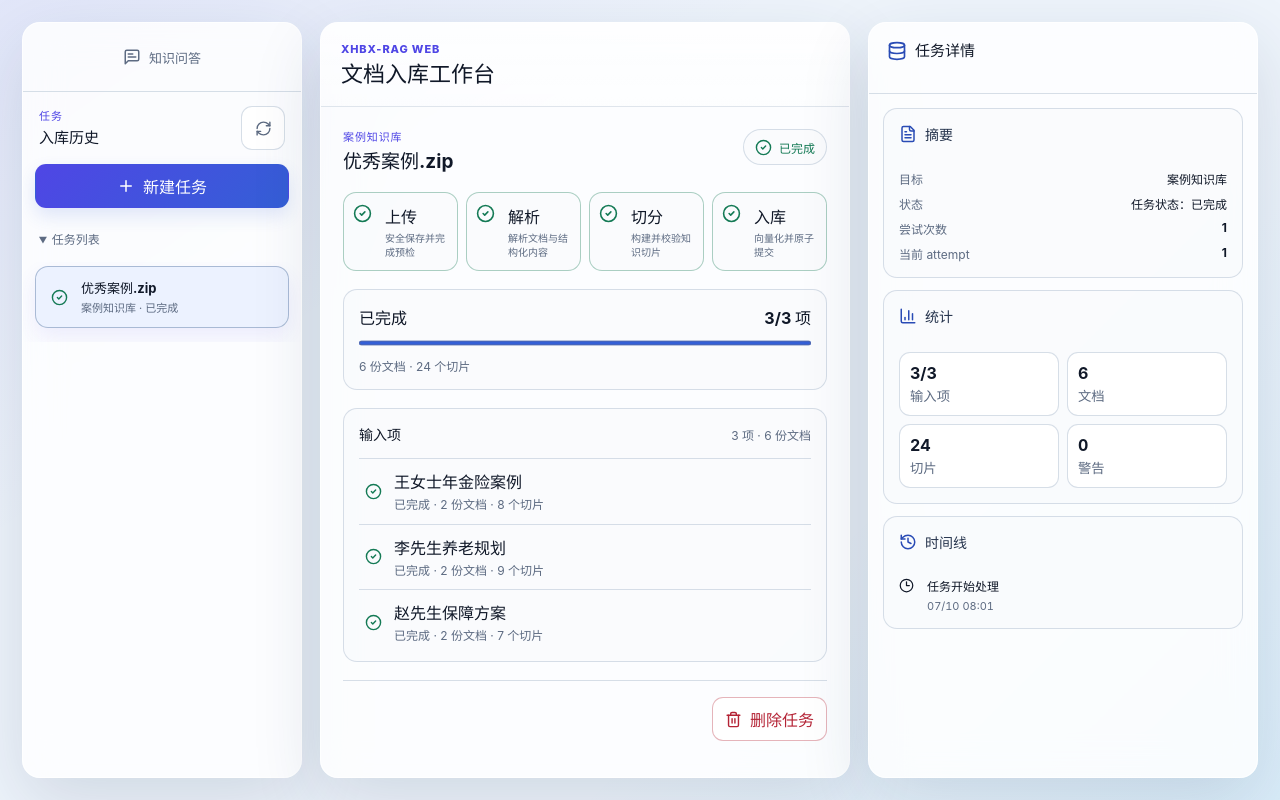
Test: 删除确认可用 Escape 取消，确认后回退新建页
Step 1. Click the button "删除任务" → click(770, 719), box [712,697,827,741]
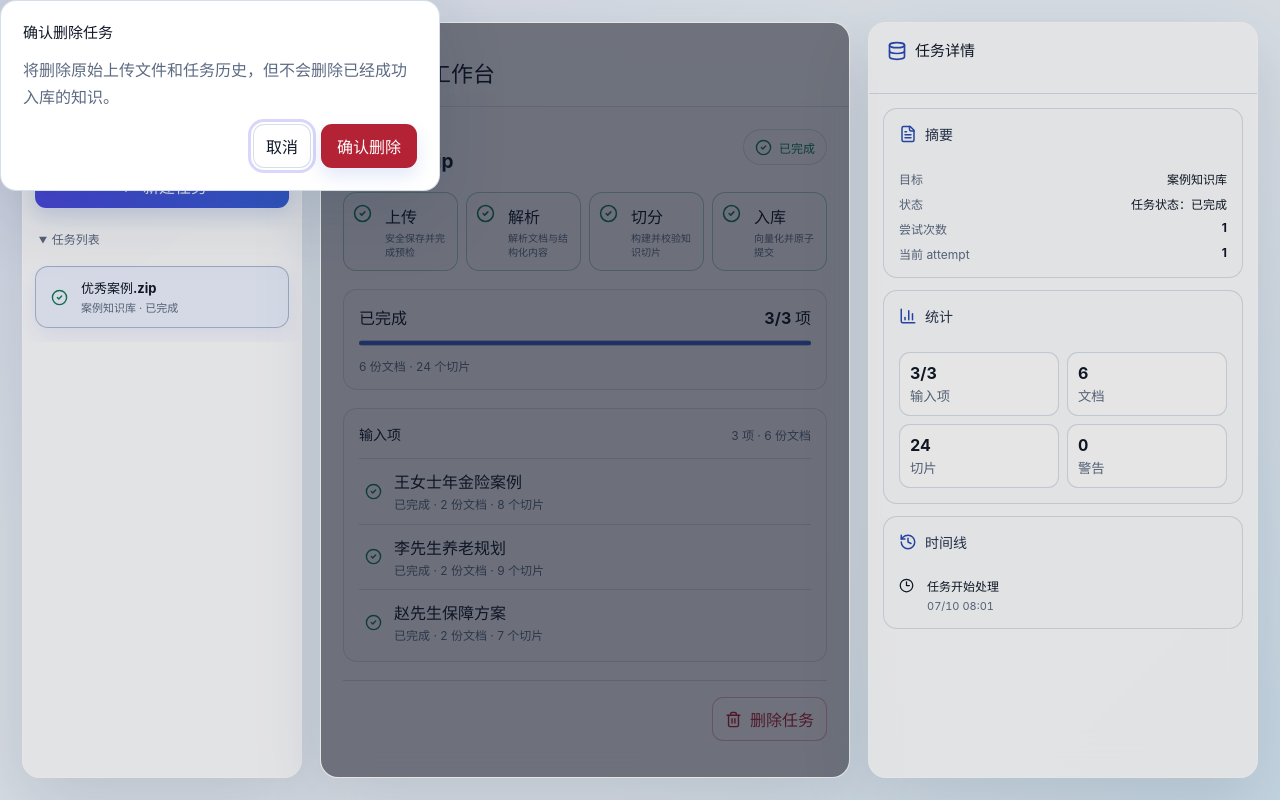
Expected: the text "将删除原始上传文件和任务历史，但不会删除已经成功入库的知识。" is shown, [23,57,417,110]
Step 2. Press Escape in the dialog "确认删除任务", box [0,0,440,191]
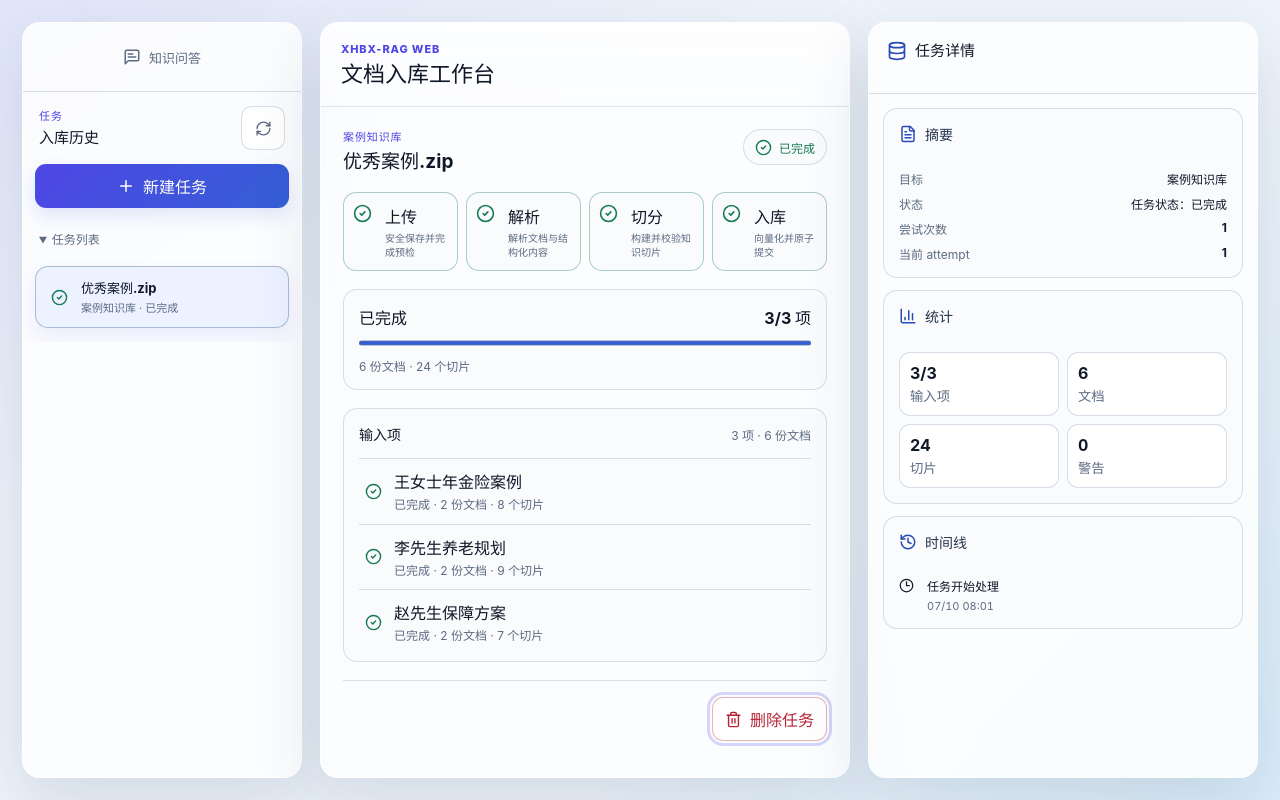
Expected: the heading "确认删除任务" is gone
Step 3. Click the button "删除任务" → click(770, 719), box [712,697,827,741]
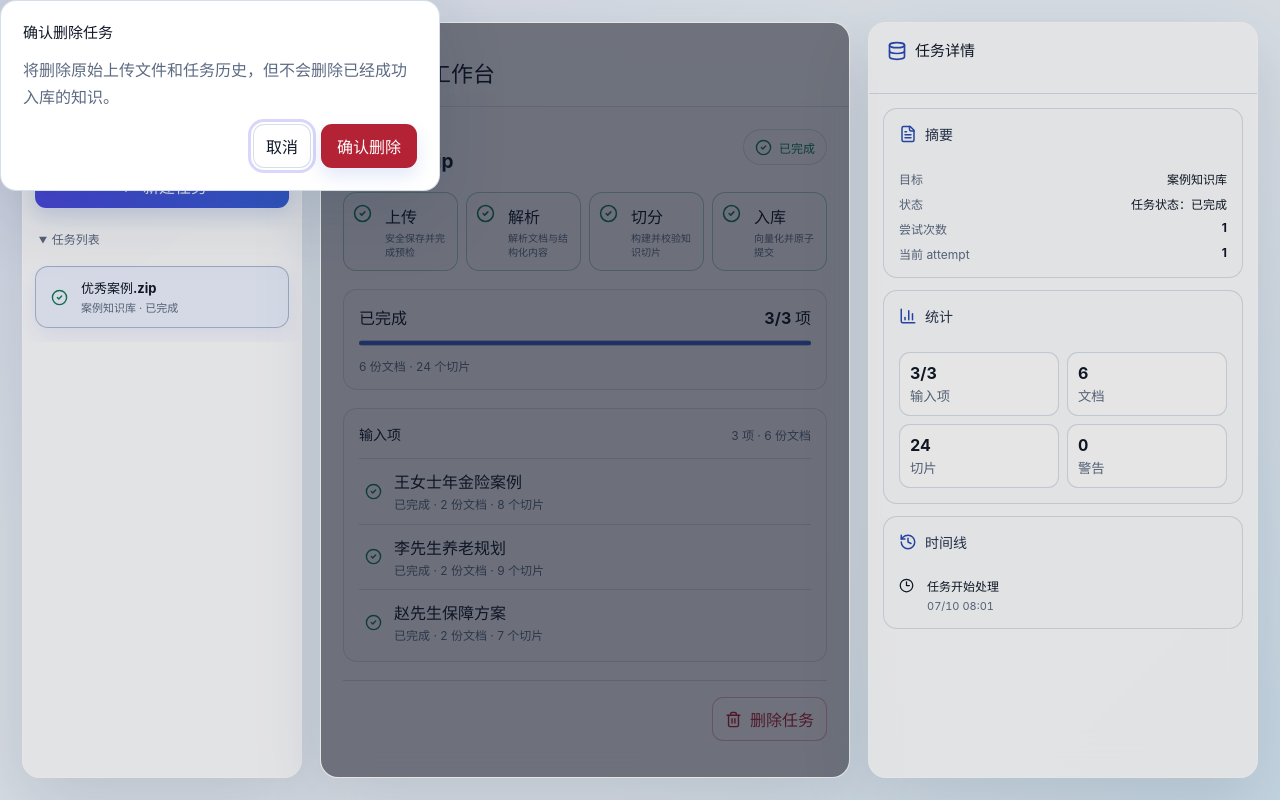
Step 4. Click the button "确认删除" → click(369, 146), box [321,124,417,168]
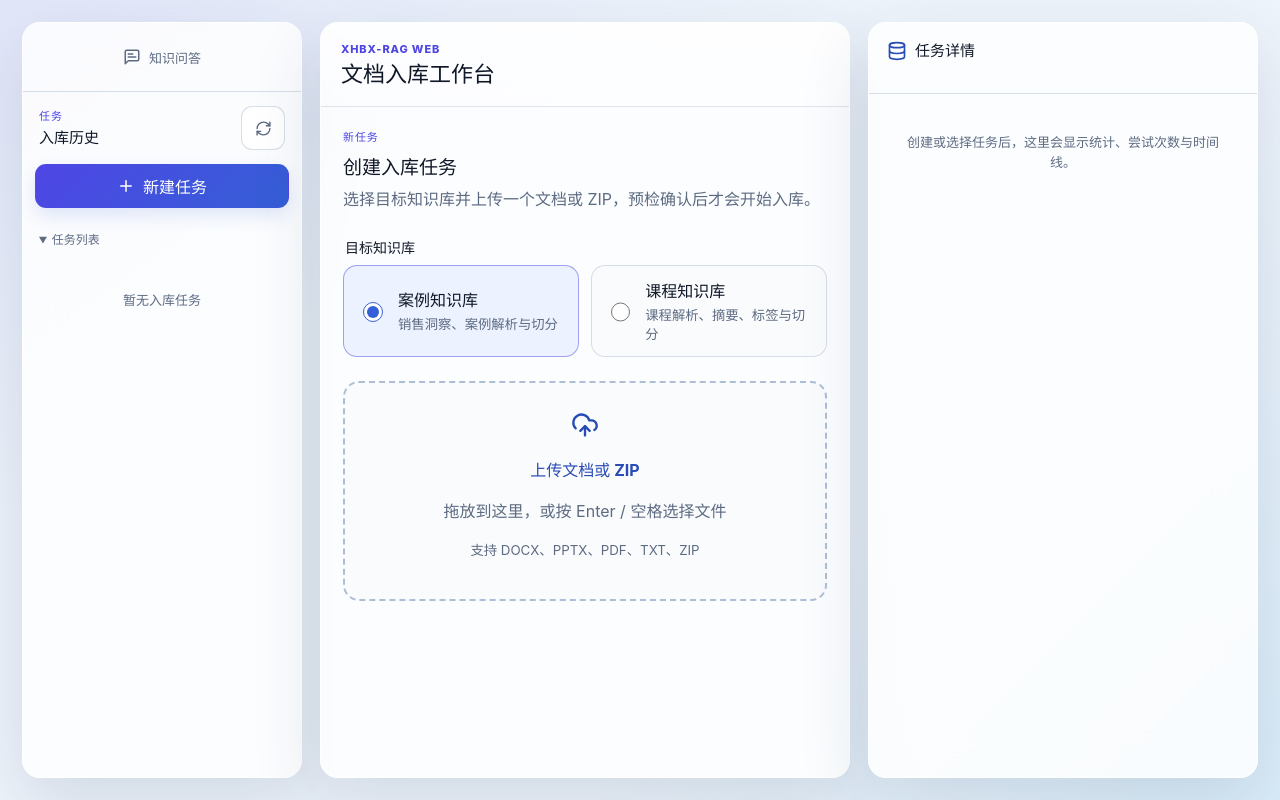
Expected: the heading "创建入库任务" is shown, [343,156,457,178]
